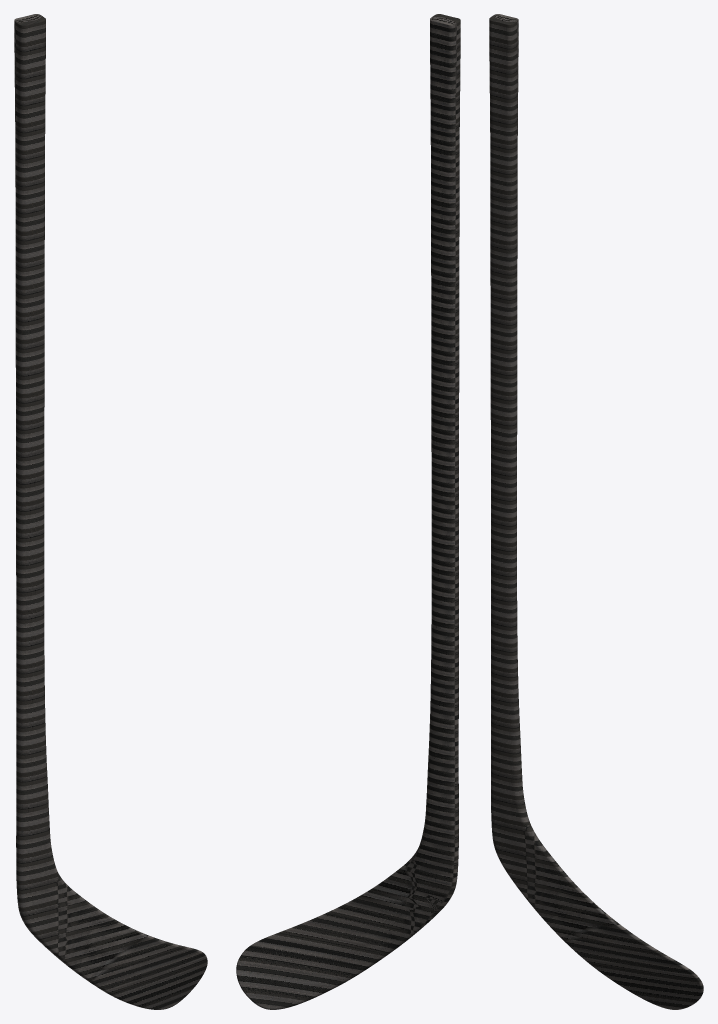
The model's file is P69-SBO.glb.
The picture shows the model from 3 angles, left to right: view 1: azimuth 30°, elevation 25°; view 2: azimuth 150°, elevation 25°; view 3: azimuth 330°, elevation 25°; orthographic projection. The views are drawn at different scales.
Parts seen in each view (by area): view 1: geometry_0; view 2: geometry_0; view 3: geometry_0.
Part boxes in pixels (x1=…): geometry_0: x1=14, y1=14, x2=207, y2=1009; geometry_0: x1=236, y1=14, x2=460, y2=1009; geometry_0: x1=489, y1=14, x2=703, y2=1009.
Size of the model in its own units: 242 by 1154 by 56.41.
Materials: 1 (1 with a texture image).
